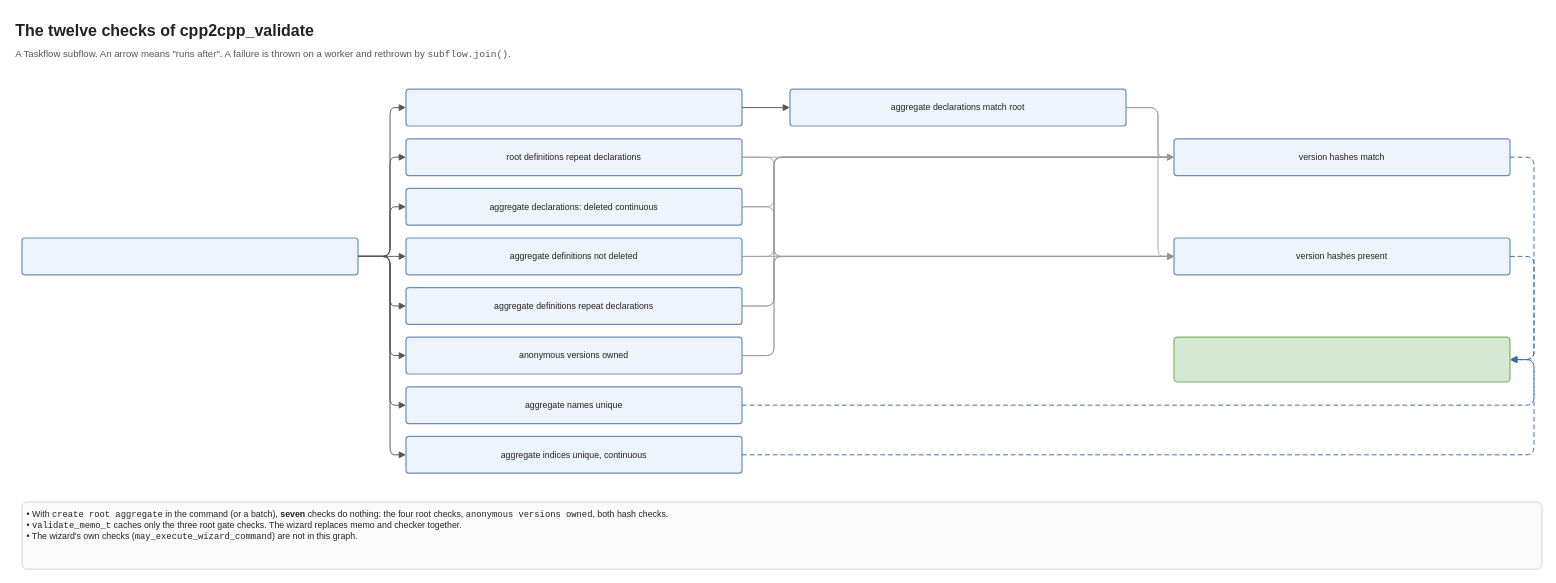
Some shapes in this 1556 by 583 pixel diagram are drawn without their labels. Here are the shapes that lost their labels. From the top down, the centre of each, then its label:
the point at 573,107: root declarations from zero, continuous
the point at 189,256: is root aggregate single
the point at 1341,359: join → compile_for_validation ( cpp2post_cpp::translate )
